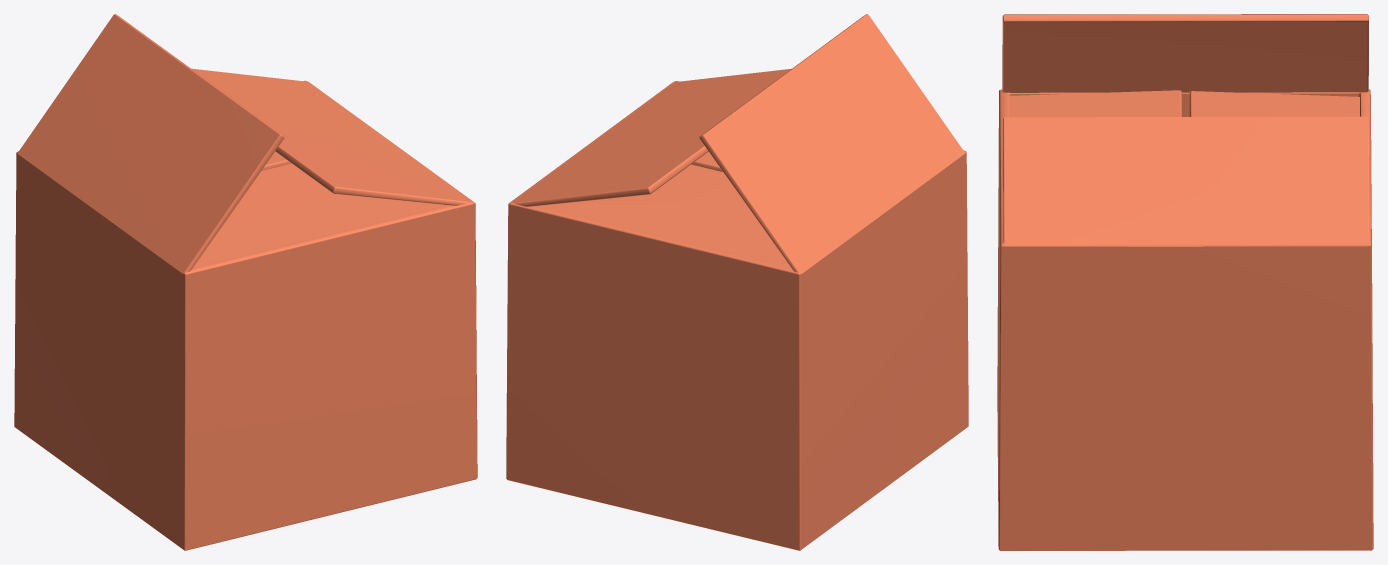
The model's file is Town_2_Box_1.glb.
The picture shows the model from 3 angles, left to right: view 1: azimuth 30°, elevation 25°; view 2: azimuth 150°, elevation 25°; view 3: azimuth 270°, elevation 25°; orthographic projection. The views are drawn at different scales.
Visible parts, largest first — view 1: Town_2_Box_1; view 2: Town_2_Box_1; view 3: Town_2_Box_1.
Boxes of the visible parts, x1,y1,x2,y2 form: Town_2_Box_1: [14, 14, 477, 550]; Town_2_Box_1: [506, 14, 968, 550]; Town_2_Box_1: [997, 14, 1373, 550].
Size of the model in its own units: 0.4834 by 0.6116 by 0.4834.
1 material, 1 textured.
